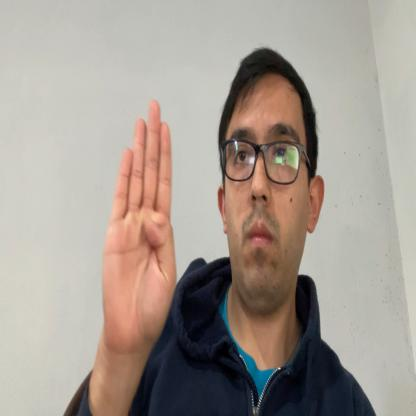B: (101, 97, 177, 360)
